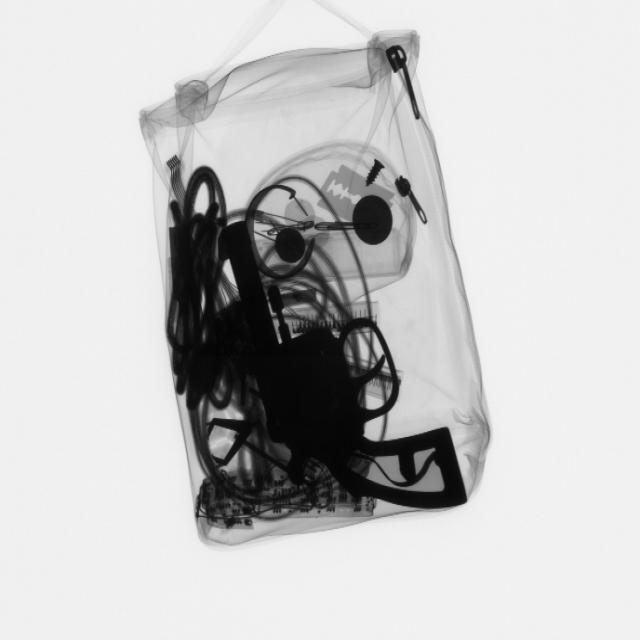BLADE: (319, 161, 379, 234)
GUN: (224, 238, 473, 527)
SCREW: (356, 150, 392, 193)
